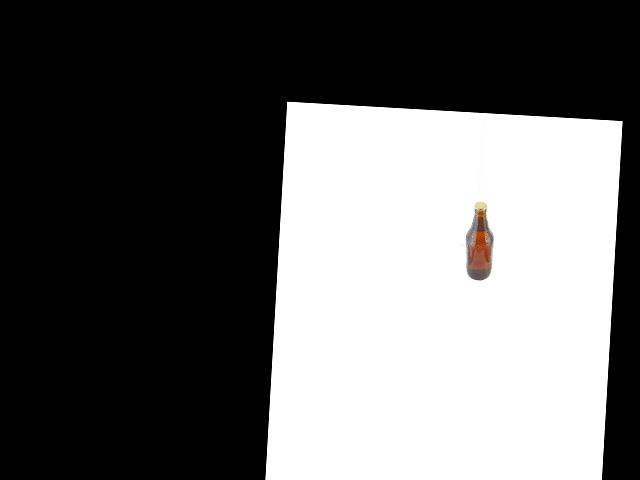beer: (465, 200, 494, 280)
